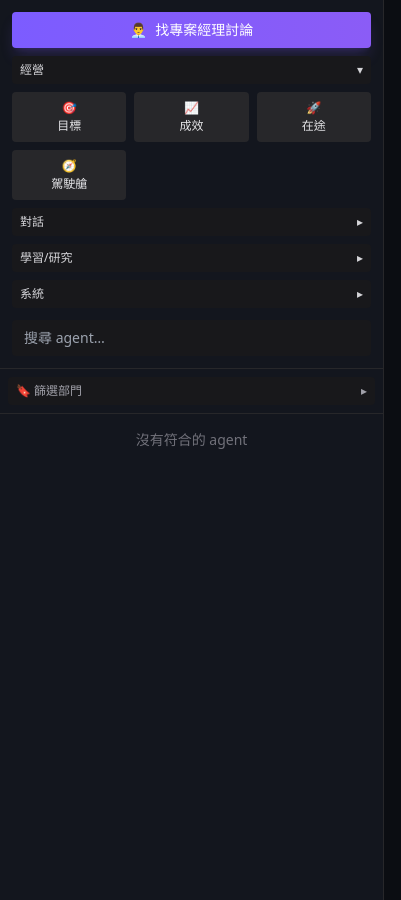
AgentSidebar 分組折疊 › 點擊「對話」組頭展開後，歷史按鈕出現
Click the button with test id "group-header-對話".
click(32, 222)  # box [12,208,371,236]
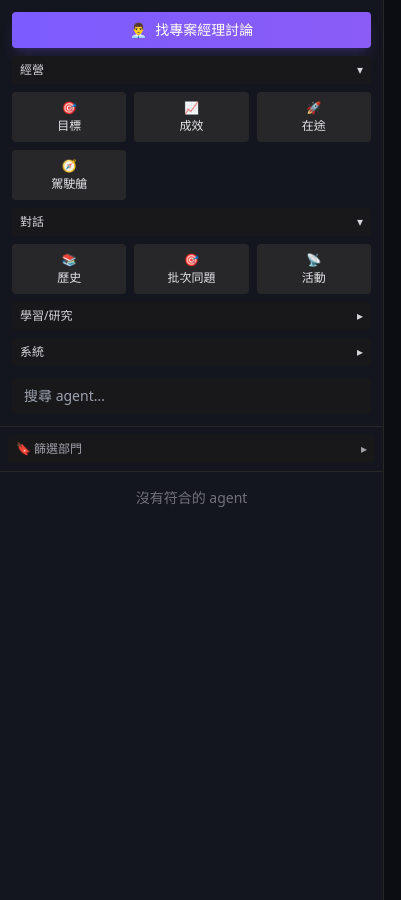
expect the button titled "所有過往對話" is shown: met, box [12,244,126,294]
